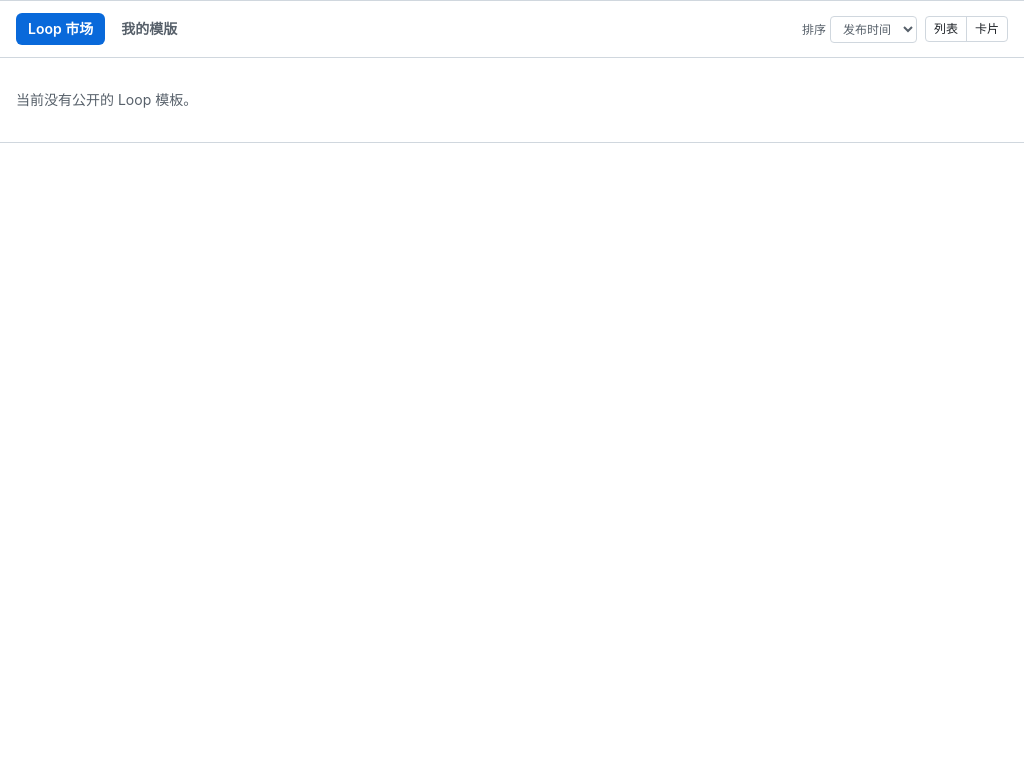
DevelopmentTemplateLibrary › requires confirmation before making a private template public
Click the tab "我的模版" at (149, 29), box 109,13 -> 189,45
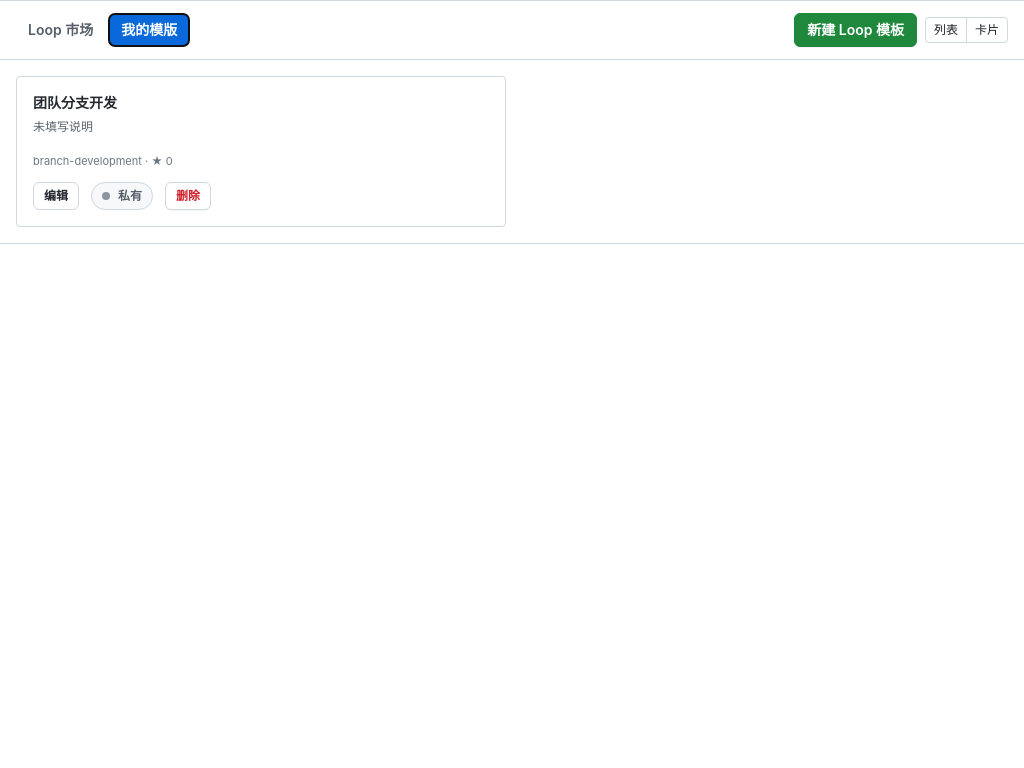
Click the switch named "团队分支开发公开状态" at (122, 196), box 91,182 -> 153,210
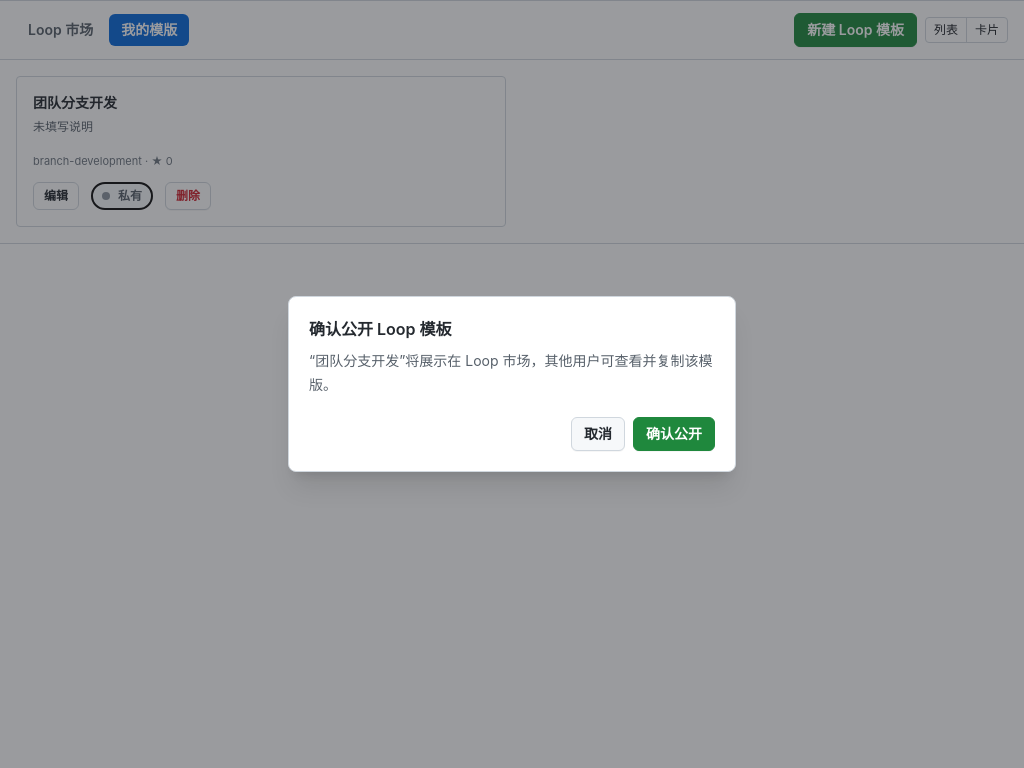
Check: the dialog "确认公开 Loop 模板" is shown, box 288,296 -> 736,472
Click the button "取消" at (598, 434), box 571,417 -> 625,451
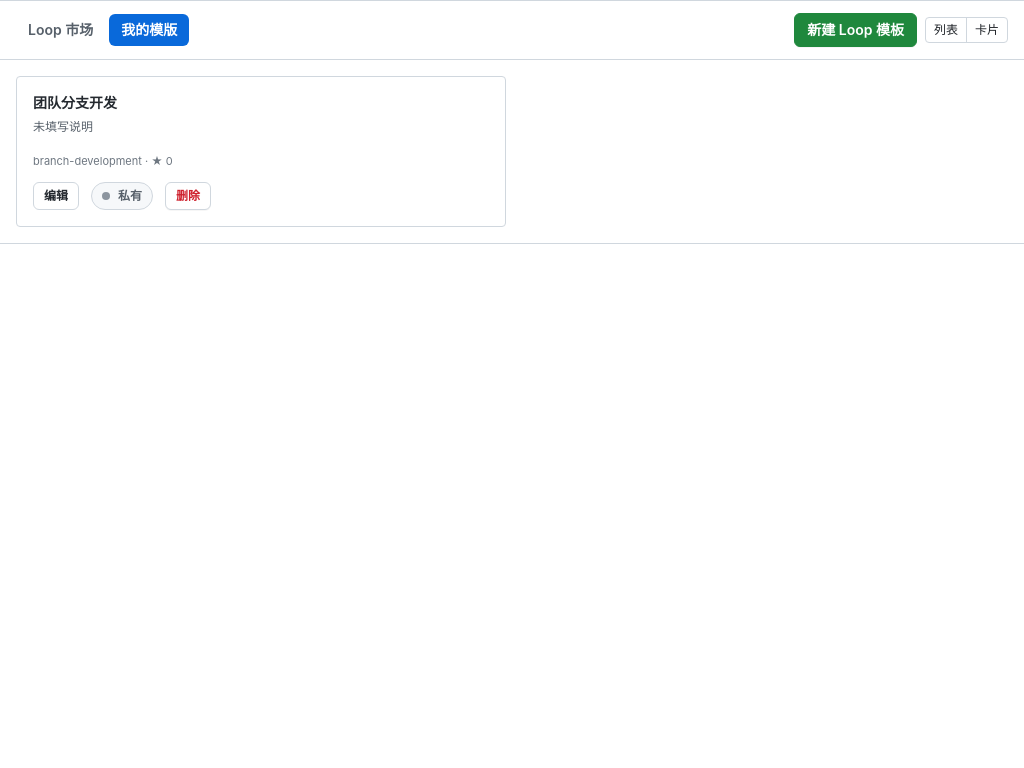
Check: the heading "确认公开 Loop 模板" is gone
